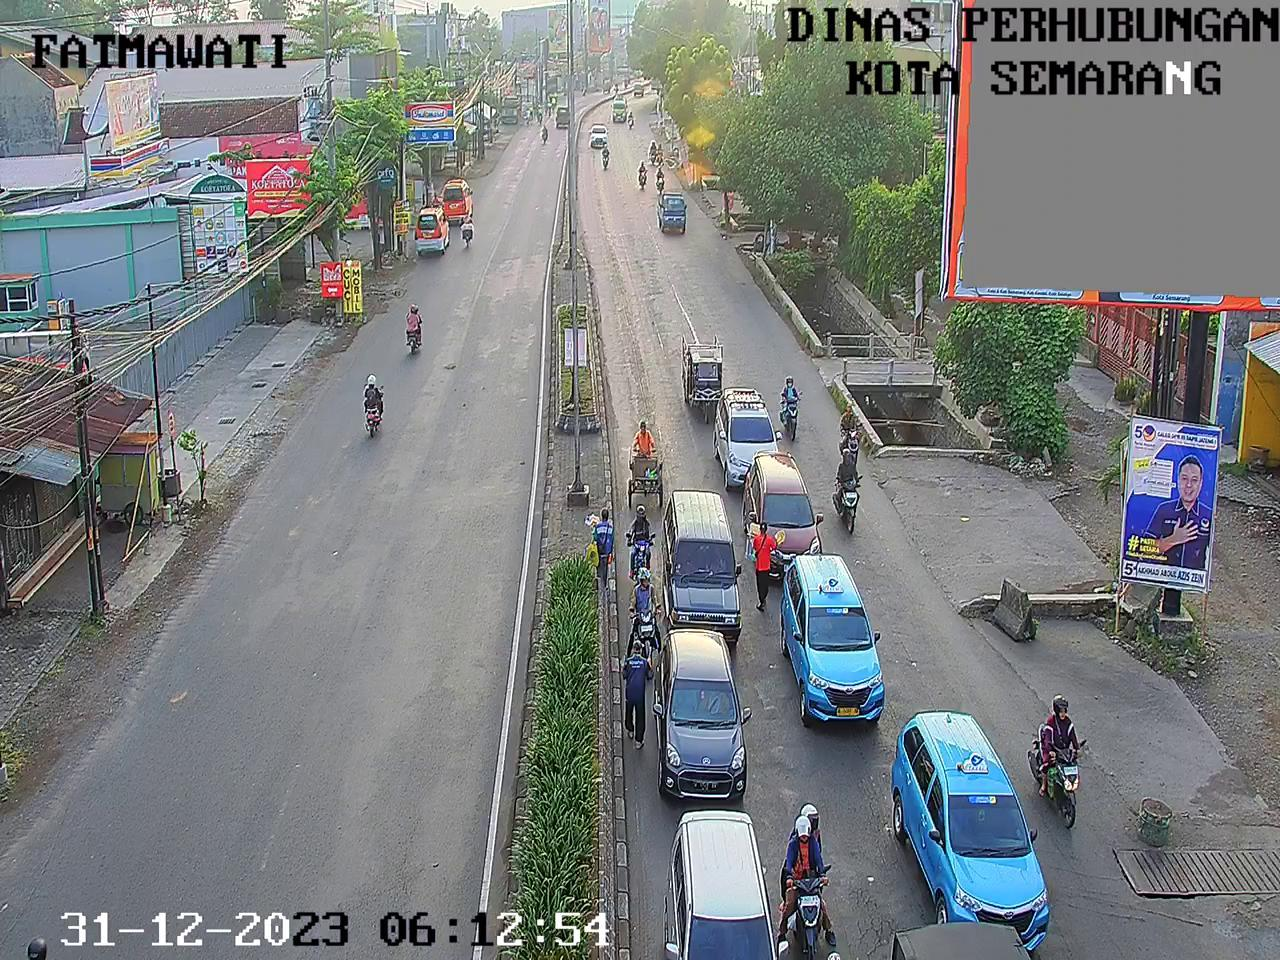car: (889, 724, 1069, 942), (654, 814, 803, 960), (782, 556, 901, 723), (647, 631, 755, 794), (648, 490, 734, 625), (881, 905, 1059, 960), (745, 459, 834, 560), (707, 392, 776, 478), (659, 185, 687, 234), (589, 123, 606, 144), (633, 81, 646, 98)
motorcycle: (771, 803, 847, 956), (1042, 689, 1106, 843), (678, 333, 744, 415), (633, 573, 678, 684), (833, 454, 880, 532), (632, 500, 670, 586), (780, 372, 818, 445), (840, 398, 867, 452), (636, 163, 653, 195), (595, 147, 613, 172), (656, 164, 668, 197), (645, 139, 658, 163), (626, 108, 635, 130), (655, 144, 666, 160)
truck: (612, 93, 628, 125)
